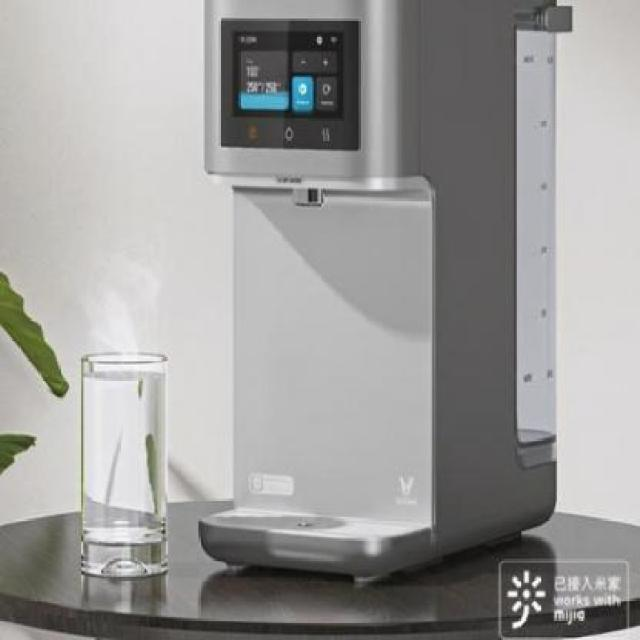cooler: (202, 0, 562, 584)
